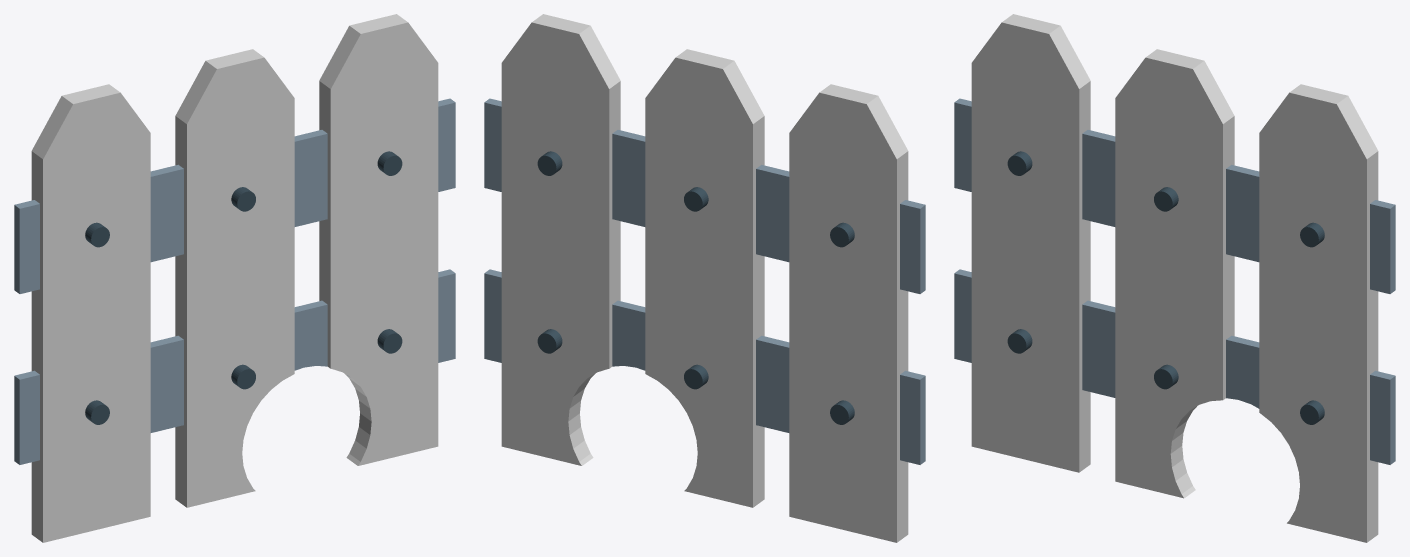
The model's file is FenceWithHole.fbx.
3 renders of one model, left to right at view 1: azimuth 30°, elevation 25°; view 2: azimuth 150°, elevation 25°; view 3: azimuth 330°, elevation 25°, orthographic.
Parts seen in each view (by area): view 1: Vertical, Horizontal, Detail; view 2: Vertical, Horizontal, Detail; view 3: Vertical, Horizontal, Detail.
Part boxes in pixels (x1=…): Vertical: x1=31, y1=14, x2=438, y2=542; Horizontal: x1=14, y1=98, x2=455, y2=464; Detail: x1=85, y1=151, x2=402, y2=424; Vertical: x1=501, y1=14, x2=908, y2=542; Horizontal: x1=484, y1=98, x2=925, y2=464; Detail: x1=537, y1=151, x2=854, y2=424; Vertical: x1=971, y1=14, x2=1378, y2=542; Horizontal: x1=954, y1=98, x2=1395, y2=464; Detail: x1=1007, y1=151, x2=1324, y2=424.
Bounding box in the file's own units: 1808 × 1710 × 169.
